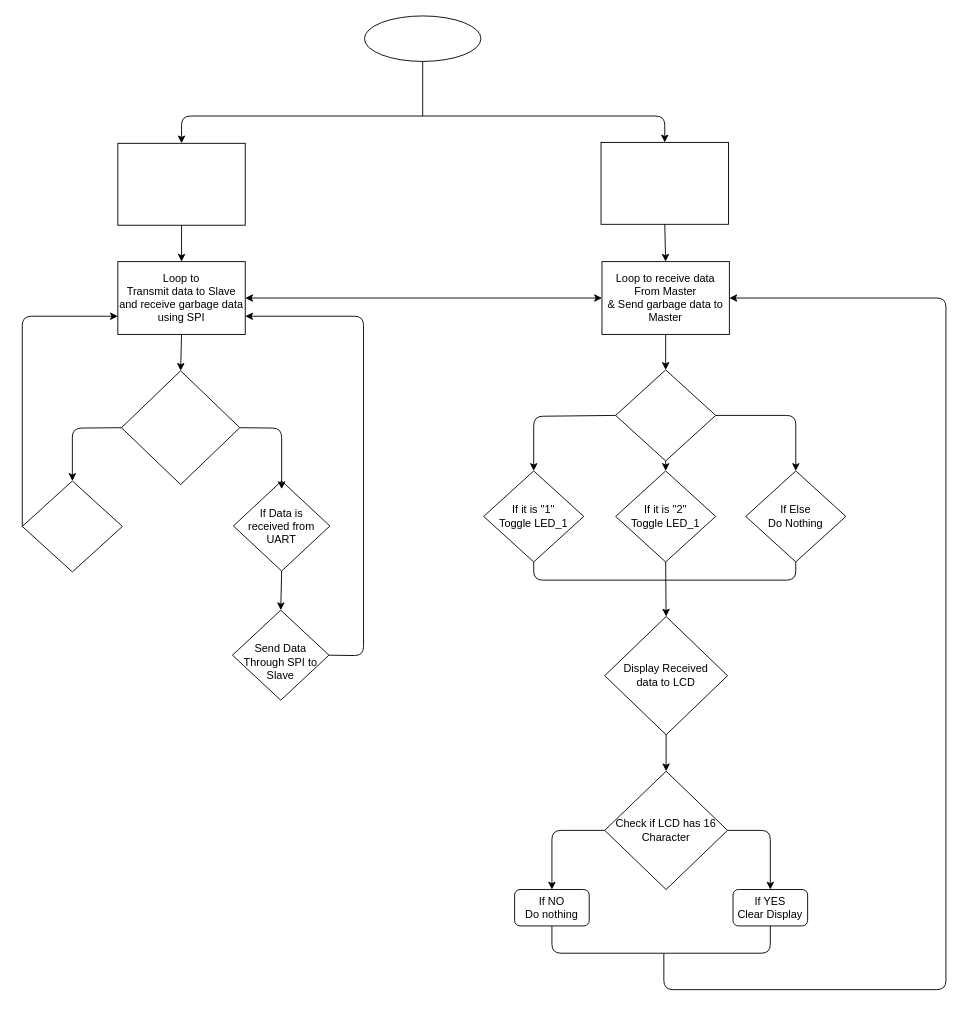
The diagram is 969 pixels wide and 1013 high, and some of its shapes have lost their labels. The centre of each missing label's shape, as x and y in pixels:
"- Initialize LCD - Initialize LED 1 & 2 - Initialize SPI as Slave" goes at pixel 664 183.
"Check Recieved Data" goes at pixel 665 415.
"Do we receive Data using UART?" goes at pixel 180 427.
"If no Data received from UART" goes at pixel 71 526.
"Initialize UART & Initialize SPI as Master" goes at pixel 181 183.
"Start" goes at pixel 422 38.
